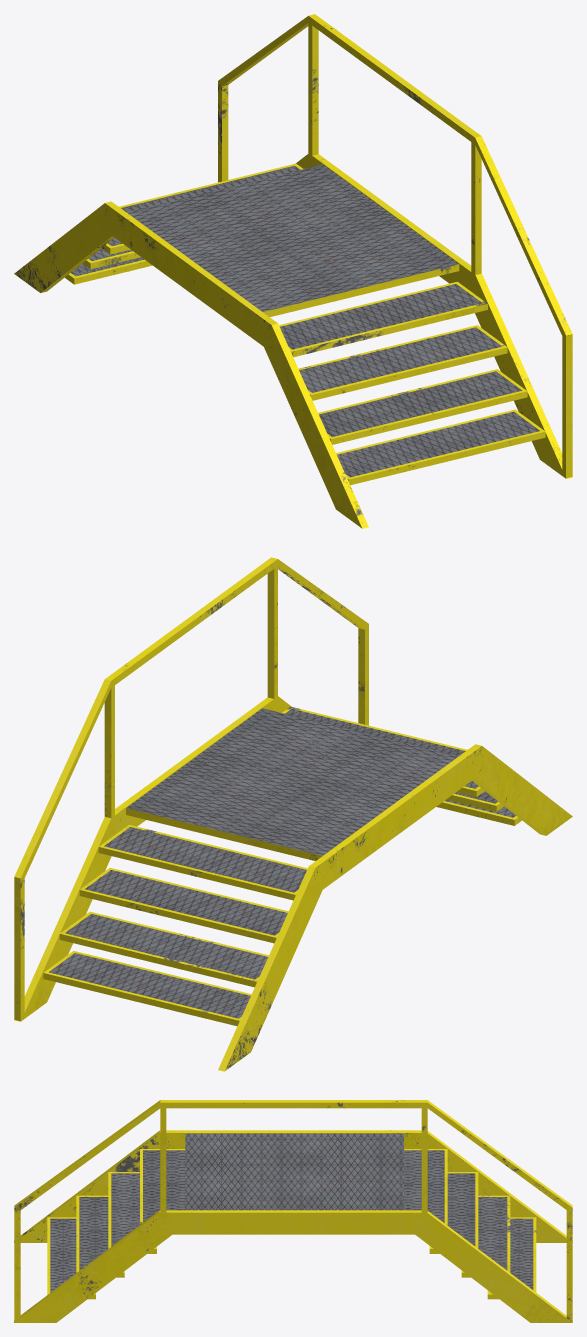
The model's file is maintstand.fbx.
3 views of the same model, one above another, from view 1: azimuth 30°, elevation 25°; view 2: azimuth 150°, elevation 25°; view 3: azimuth 270°, elevation 25° (orthographic). The views are drawn at different scales.
Parts seen in each view (by area): view 1: Stand1; view 2: Stand1; view 3: Stand1.
Part boxes in pixels (x1,y1,x2,y2): Stand1: (14, 14, 572, 528); Stand1: (14, 557, 572, 1071); Stand1: (14, 1100, 572, 1322).
Size of the model in its own units: 1.6 by 2 by 4.6.
